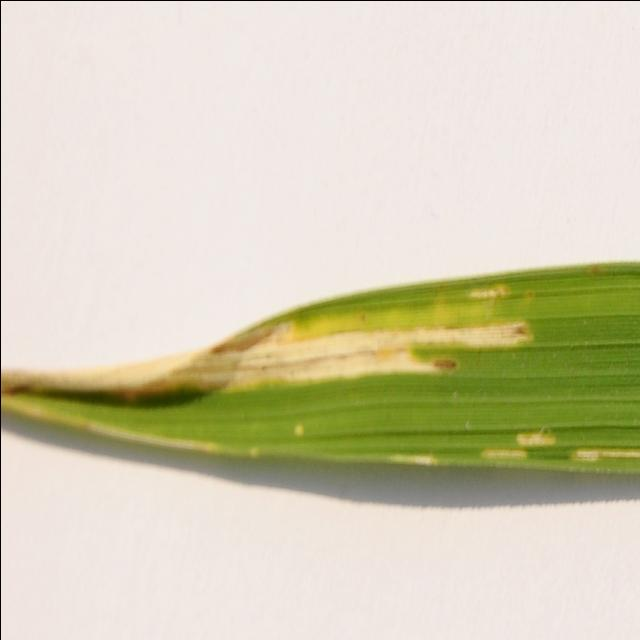Unhealthy: (0, 316, 532, 396), (0, 395, 216, 451), (572, 446, 640, 462), (386, 450, 438, 467), (468, 284, 508, 299), (516, 432, 554, 446), (483, 446, 524, 458), (588, 262, 600, 274), (293, 421, 303, 434), (250, 447, 258, 457), (526, 288, 532, 301)
